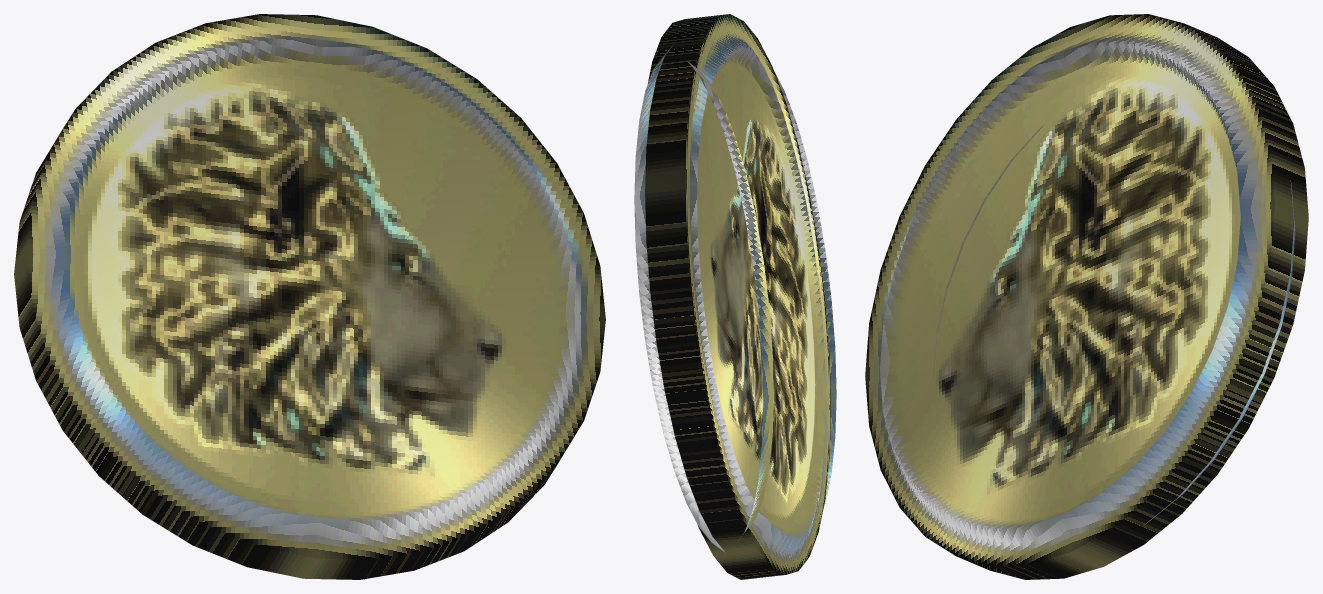
The model's file is ps2_save-icons_thechroniclesofnarniathelionthewitchandthewardrobe.glb.
The picture shows the model from 3 angles, left to right: view 1: azimuth 30°, elevation 25°; view 2: azimuth 150°, elevation 25°; view 3: azimuth 270°, elevation 25°; orthographic projection. The views are drawn at different scales.
Parts seen in each view (by area): view 1: narnia.ico; view 2: narnia.ico; view 3: narnia.ico.
Part boxes in pixels (x1,y1,x2,y2): narnia.ico: (14, 14, 605, 579); narnia.ico: (634, 14, 836, 579); narnia.ico: (865, 14, 1308, 579).
Bounding box in the file's own units: 3.06 × 4 × 3.06.
1 material, 1 textured.
